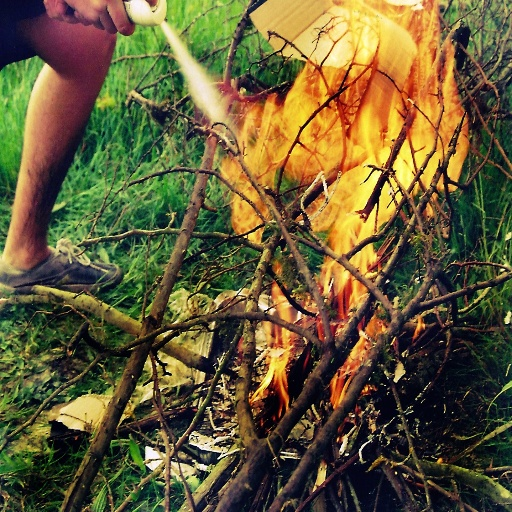hand: (64, 0, 156, 37)
